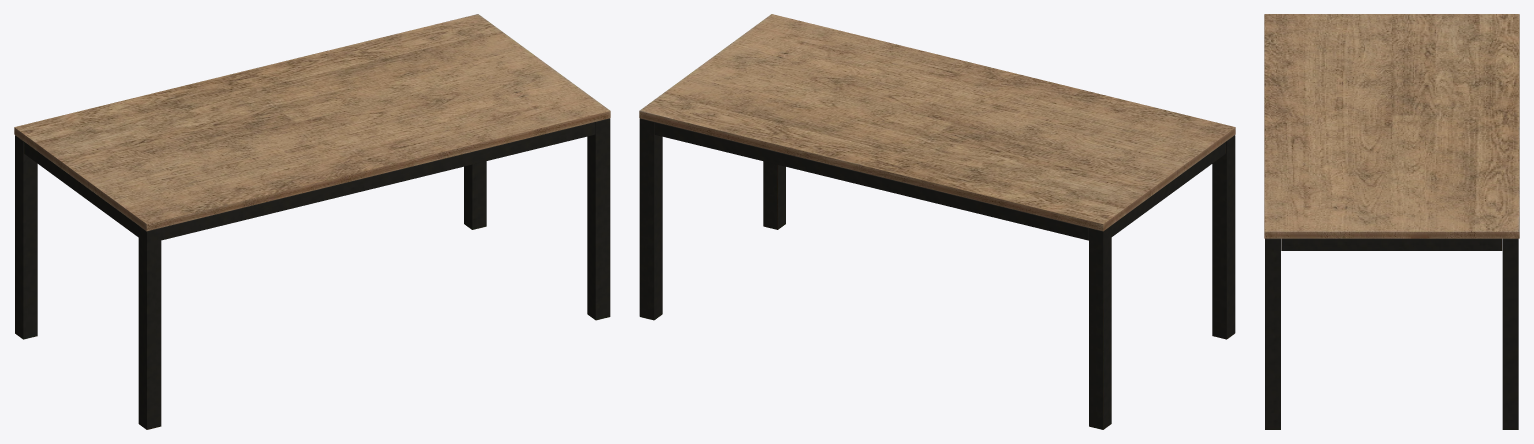
The model's file is B07HSJJF2X.glb.
The picture shows the model from 3 angles, left to right: view 1: azimuth 30°, elevation 25°; view 2: azimuth 150°, elevation 25°; view 3: azimuth 270°, elevation 25°; orthographic projection. The views are drawn at different scales.
Parts seen in each view (by area): view 1: RootNode; view 2: RootNode; view 3: RootNode.
Part boxes in pixels (x1,y1,x2,y2): RootNode: (14,14,610,429); RootNode: (639,14,1235,429); RootNode: (1264,14,1519,429).
Size of the model in its own units: 1.81 by 0.7667 by 0.8929.
Materials: 1 (1 with a texture image).
